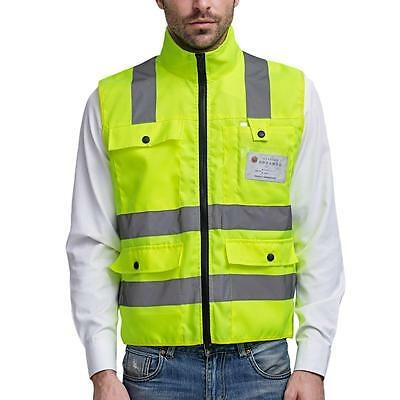person with partial safety: (89, 1, 315, 395)
safety vest: (105, 48, 307, 342)
